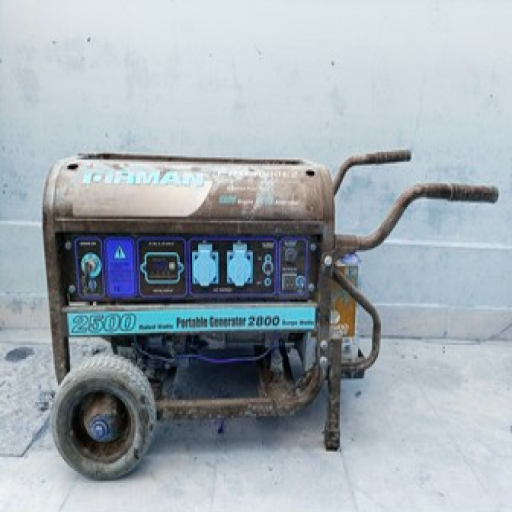portable_generator: (42, 153, 336, 418)
